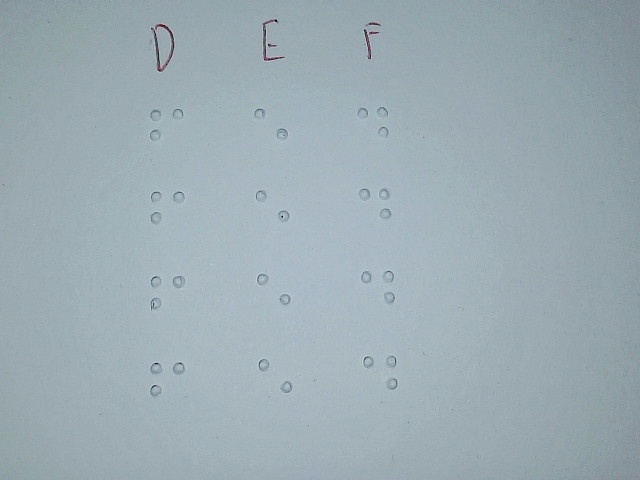D: (354, 96, 393, 164), (356, 178, 395, 246), (358, 261, 397, 329), (360, 341, 399, 409)
E: (252, 97, 292, 168), (253, 179, 293, 250), (255, 261, 295, 332), (256, 347, 296, 418)
F: (146, 96, 186, 167), (148, 180, 188, 251), (148, 263, 188, 334), (147, 352, 187, 423)
